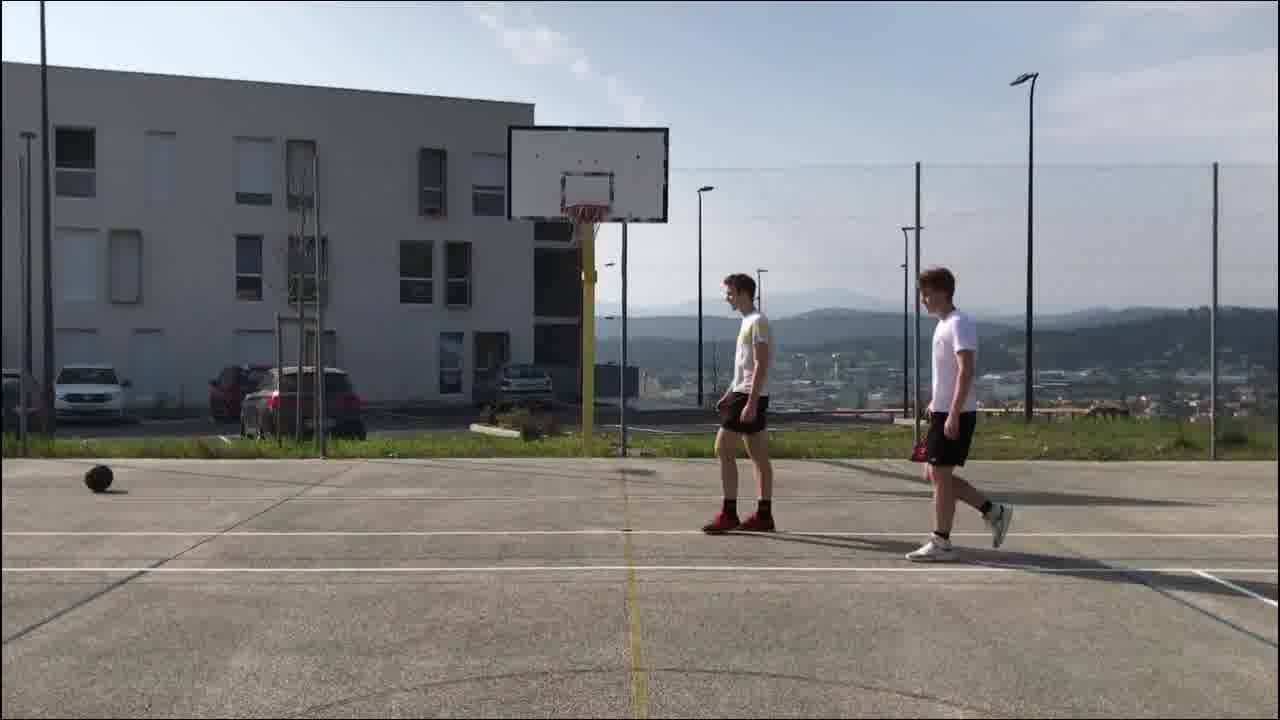jugador: (693, 258, 788, 545)
